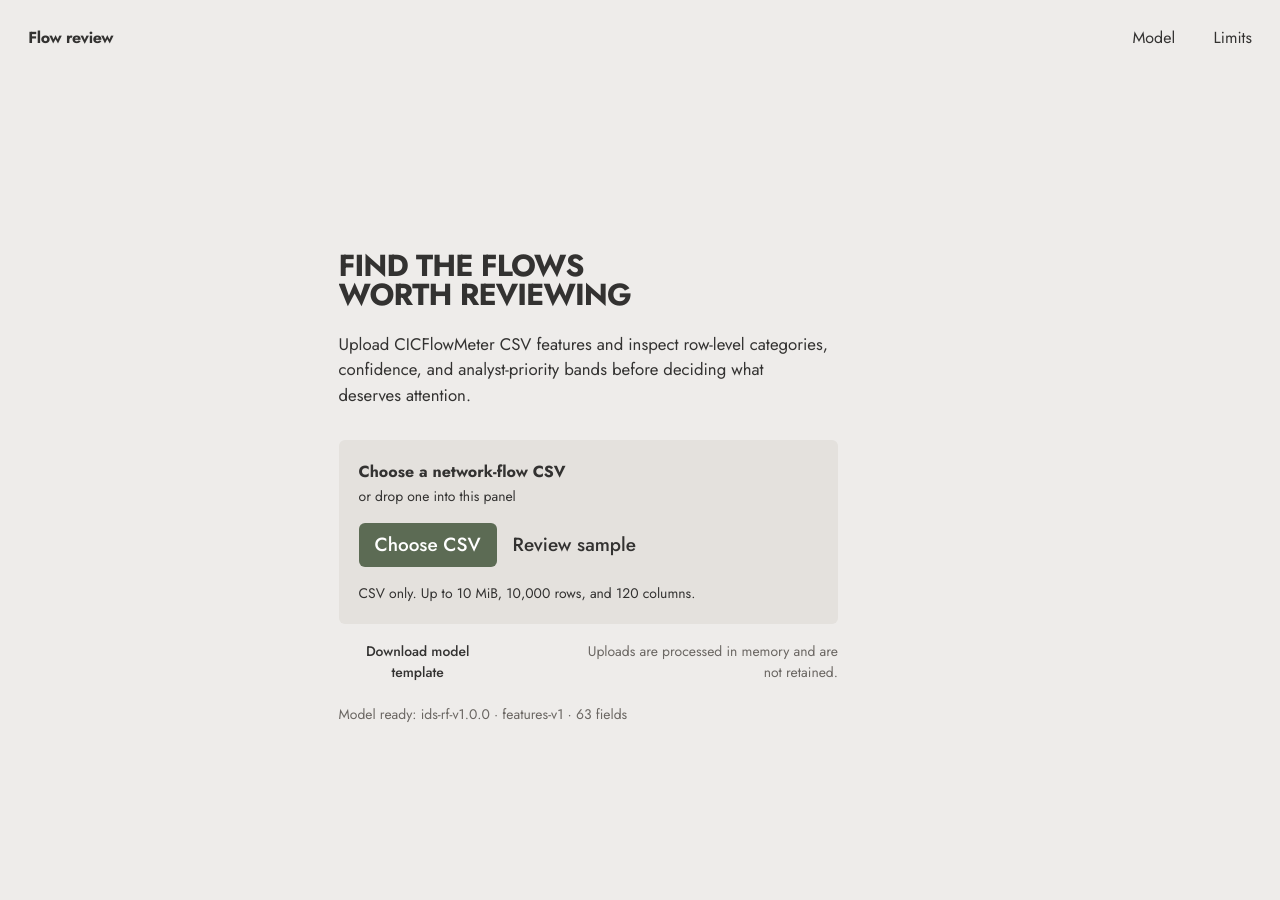
App live API states › renders partial validation and rejected-row evidence from the API
Expected: the text "Model ready: ids-rf-v1.0.0 · features-v1 · 63 fields" is shown, [338,704,627,725]
Click the button "Review sample" at (574,545), box [513,523,636,567]
(page scrolled)
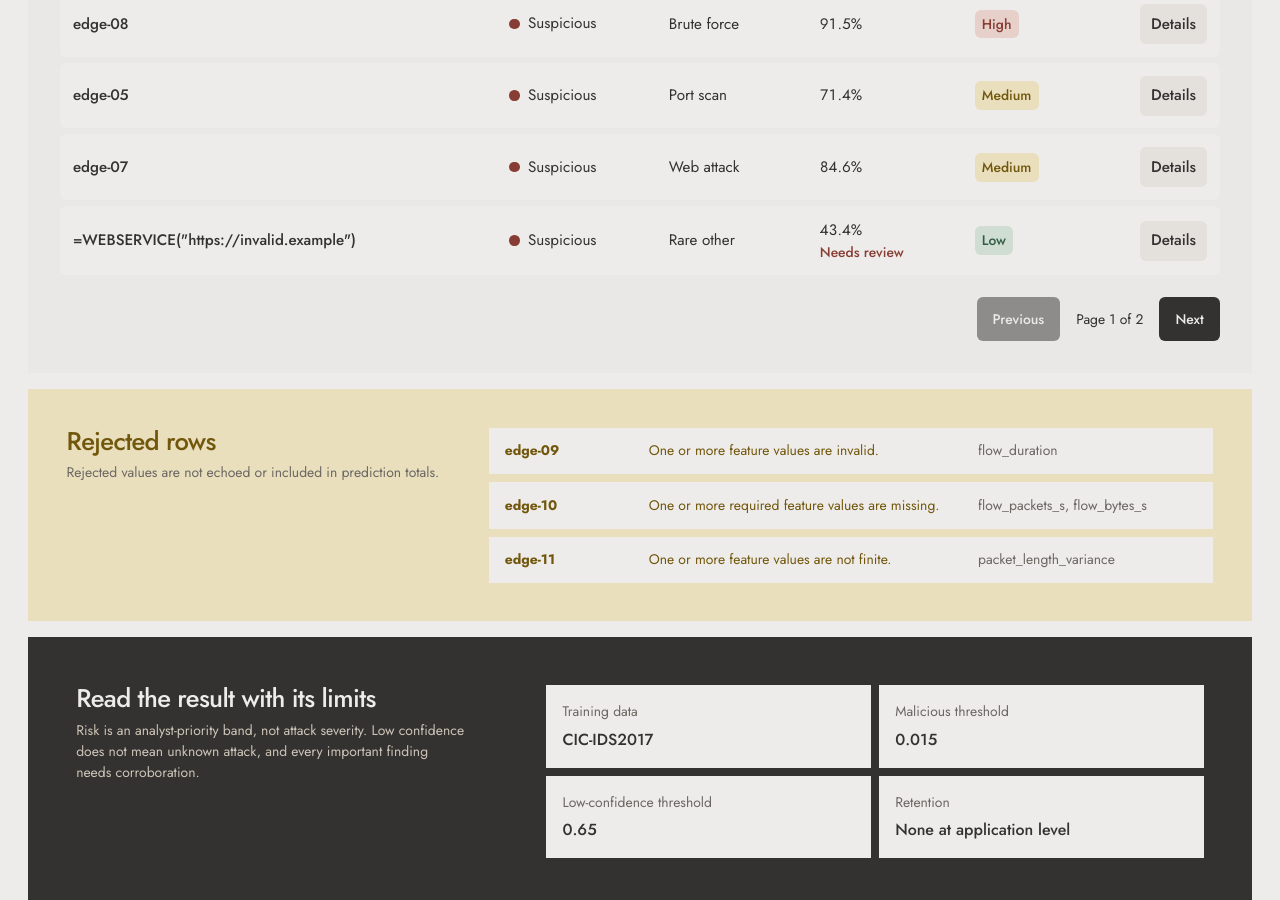
Expected: the heading "Rejected rows" is shown, [66,423,216,460]
Expected: the text "edge-09" is shown, [505,440,559,460]
